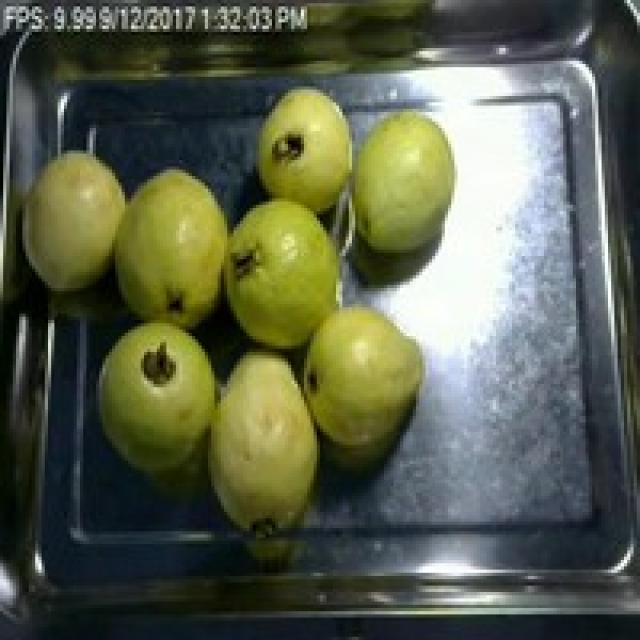Fruit: (195, 336, 333, 538), (288, 292, 438, 470), (224, 186, 358, 368), (86, 310, 228, 477), (109, 157, 227, 346), (7, 141, 138, 304), (349, 96, 470, 269), (250, 74, 364, 227)
